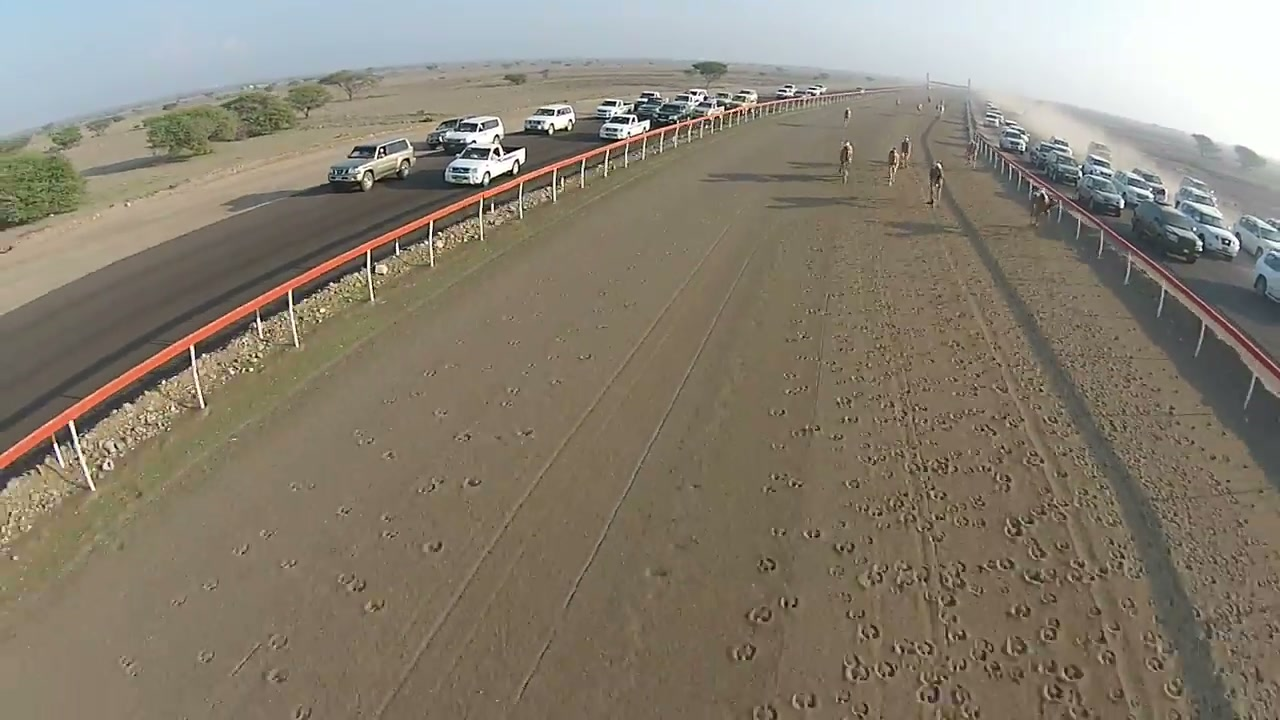animal_foot_print: (885, 288, 1149, 716), (719, 279, 967, 711), (949, 513, 1082, 696), (942, 679, 980, 717), (927, 590, 958, 616), (842, 657, 873, 682), (898, 640, 936, 658), (969, 637, 996, 662), (1143, 630, 1169, 655), (857, 565, 884, 589), (1041, 681, 1067, 704), (1004, 635, 1029, 658), (1021, 567, 1051, 586), (338, 572, 366, 592), (1058, 663, 1084, 684), (916, 683, 942, 704), (945, 656, 975, 674), (873, 660, 899, 680), (730, 642, 757, 661), (1025, 538, 1047, 561), (790, 692, 818, 710), (1003, 517, 1025, 539), (849, 697, 871, 719), (1162, 677, 1184, 699), (417, 476, 443, 494), (747, 606, 773, 624), (857, 622, 880, 641), (992, 473, 1013, 493), (264, 667, 288, 684), (791, 423, 820, 437), (990, 557, 1017, 572), (118, 656, 138, 676), (1095, 648, 1117, 666), (1023, 449, 1045, 467), (751, 704, 777, 719), (1007, 603, 1031, 619), (353, 429, 375, 446), (1007, 665, 1026, 684), (267, 633, 288, 650), (1107, 686, 1126, 704), (769, 472, 793, 486), (833, 540, 855, 555), (1145, 656, 1165, 672), (757, 557, 777, 573), (828, 434, 844, 454), (291, 705, 312, 719), (363, 599, 384, 613), (1120, 597, 1136, 615), (421, 540, 443, 553), (644, 567, 670, 578), (1038, 590, 1057, 605), (779, 595, 799, 609), (785, 331, 810, 342), (288, 481, 315, 491), (842, 477, 864, 489), (462, 476, 482, 489), (515, 427, 535, 440), (802, 527, 822, 539), (279, 558, 298, 570), (1054, 540, 1071, 553), (201, 578, 218, 591), (197, 650, 214, 663), (835, 396, 853, 408), (786, 476, 804, 488), (454, 431, 472, 442), (1087, 605, 1102, 618), (522, 362, 537, 375), (170, 595, 186, 607), (838, 415, 859, 424), (381, 528, 398, 539), (233, 543, 248, 555), (432, 408, 448, 419), (834, 519, 850, 530), (381, 449, 397, 460), (762, 484, 778, 495), (335, 505, 351, 516), (771, 526, 787, 537), (826, 290, 845, 299), (795, 354, 819, 361), (410, 389, 426, 399), (769, 408, 786, 417), (440, 362, 459, 370), (593, 305, 612, 313), (829, 432, 844, 442), (259, 529, 274, 539), (380, 513, 395, 523), (804, 306, 821, 314), (808, 245, 825, 253), (499, 398, 514, 407), (506, 386, 519, 396), (770, 442, 786, 450), (783, 371, 798, 379), (578, 353, 593, 361), (621, 301, 636, 309), (548, 378, 563, 385), (553, 335, 566, 343), (507, 338, 520, 346), (790, 318, 805, 324), (455, 338, 465, 345), (597, 290, 607, 296)
